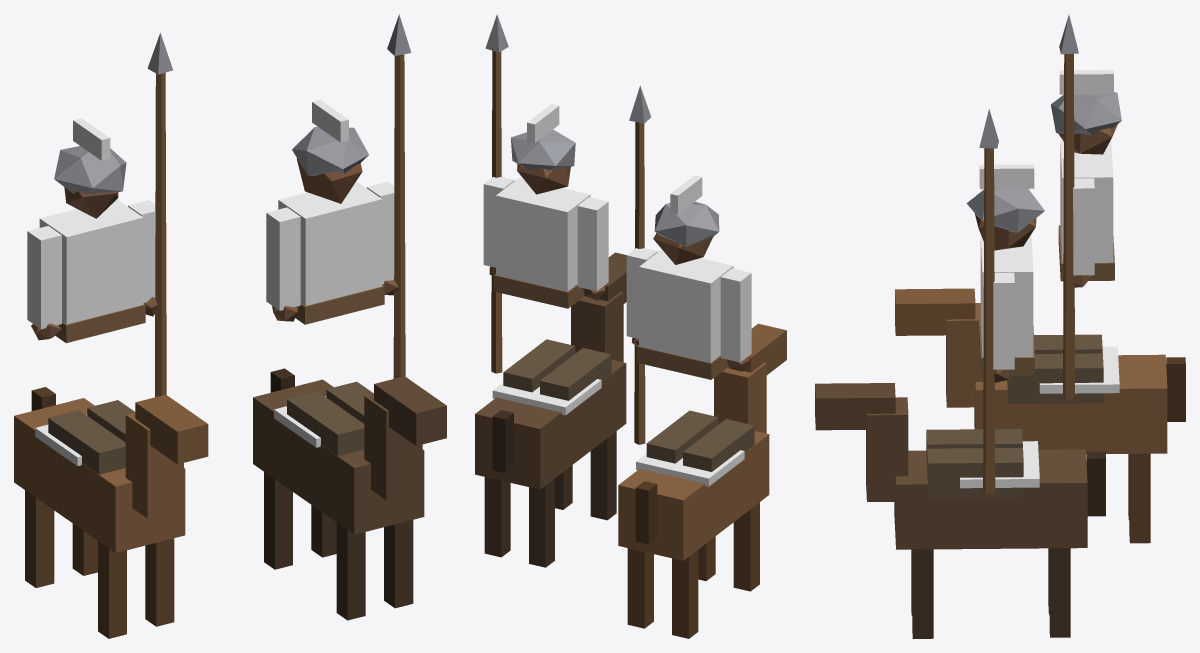
The model's file is Mounted.glb.
3 renders of one model, left to right at view 1: azimuth 30°, elevation 25°; view 2: azimuth 150°, elevation 25°; view 3: azimuth 270°, elevation 25°, orthographic. The views are drawn at different scales.
Parts seen in each view (by area): view 1: Units_Mounted; view 2: Units_Mounted; view 3: Units_Mounted.
Part boxes in pixels (x1,y1,x2,y2): Units_Mounted: (14, 14, 446, 638); Units_Mounted: (475, 14, 786, 638); Units_Mounted: (815, 14, 1185, 638).
Bounding box in the file's own units: 0.2325 × 0.375 × 0.2323.
